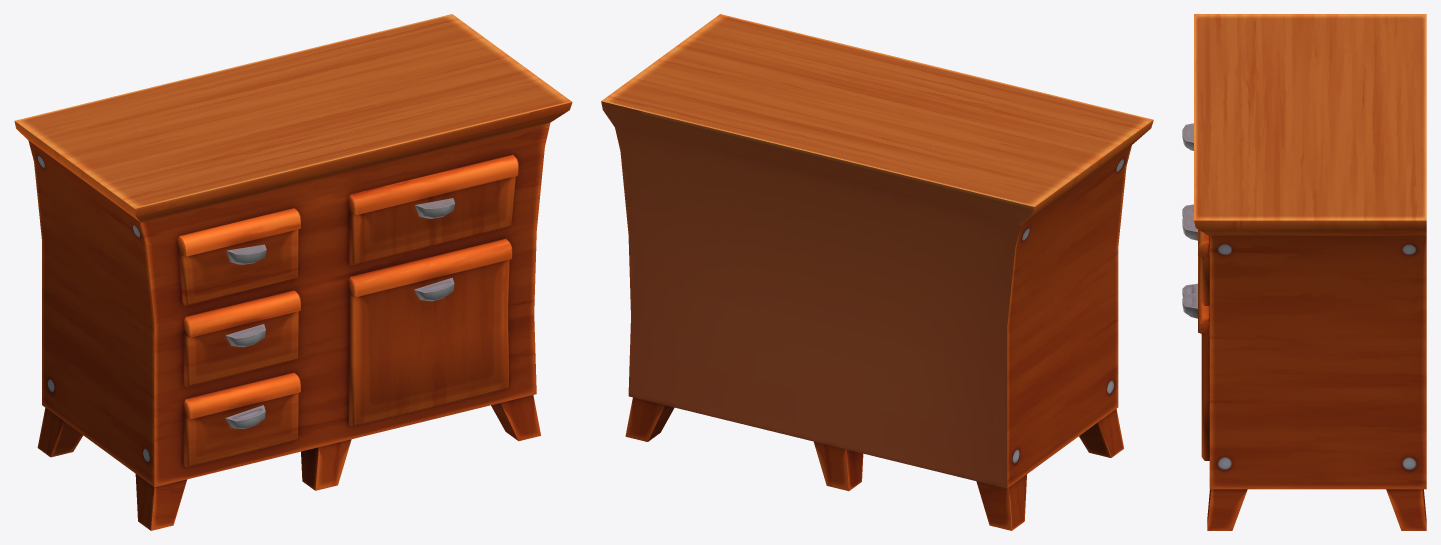
The model's file is WritingDesk01_1.FBX.
3 views of the same model, side by side, from view 1: azimuth 30°, elevation 25°; view 2: azimuth 150°, elevation 25°; view 3: azimuth 270°, elevation 25° (orthographic). The views are drawn at different scales.
Visible parts, largest first — view 1: WritingDesk01_1; view 2: WritingDesk01_1; view 3: WritingDesk01_1.
Boxes of the visible parts, x1=… form: WritingDesk01_1: x1=14, y1=14, x2=572, y2=530; WritingDesk01_1: x1=601, y1=14, x2=1153, y2=530; WritingDesk01_1: x1=1182, y1=14, x2=1426, y2=530.
Size of what is drawn, in the model's own units: 1.26 by 0.9151 by 0.6303.
